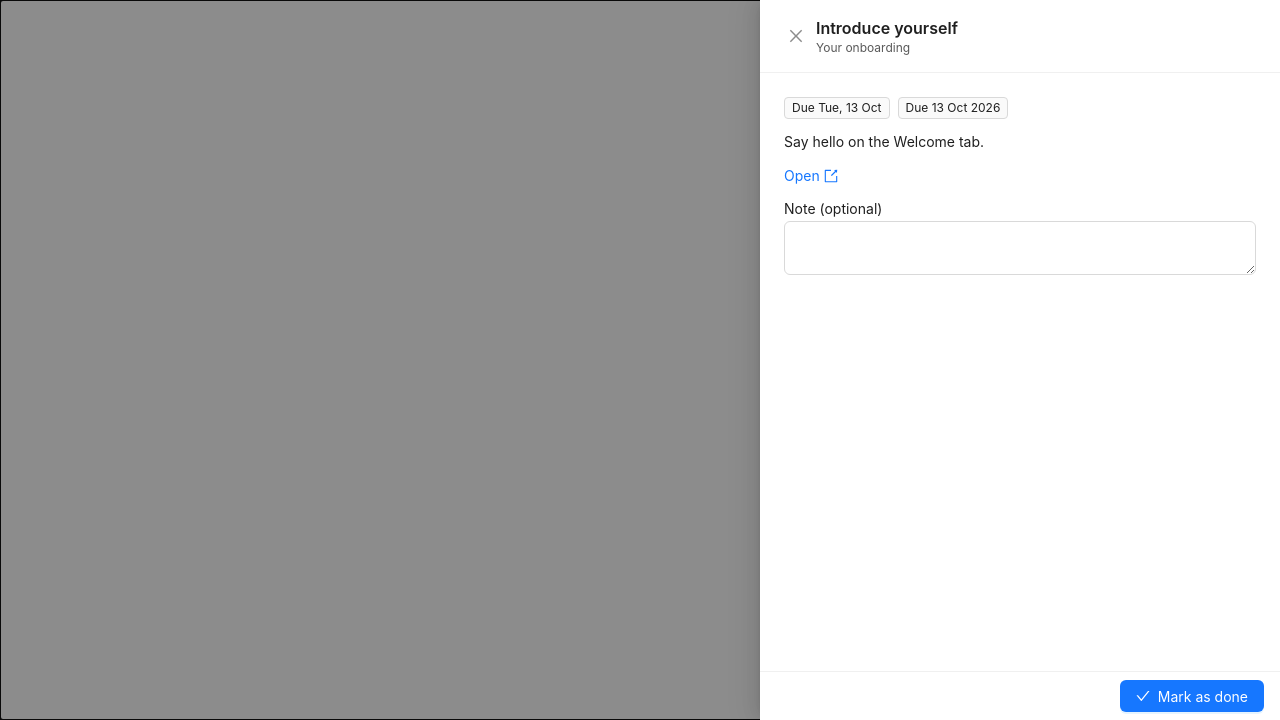
Test: LifecycleTaskDrawer › marks a plain task done with a note
The width and height of the screenshot is (1280, 720).
Expected: the text "Your onboarding" is shown, left=816, top=40, right=910, bottom=55
Expected: the text "Say hello on the Welcome tab." is shown, left=784, top=133, right=984, bottom=150
Click the text box labelled "Note (optional)": (1020,248) left=784, top=221, right=1256, bottom=275
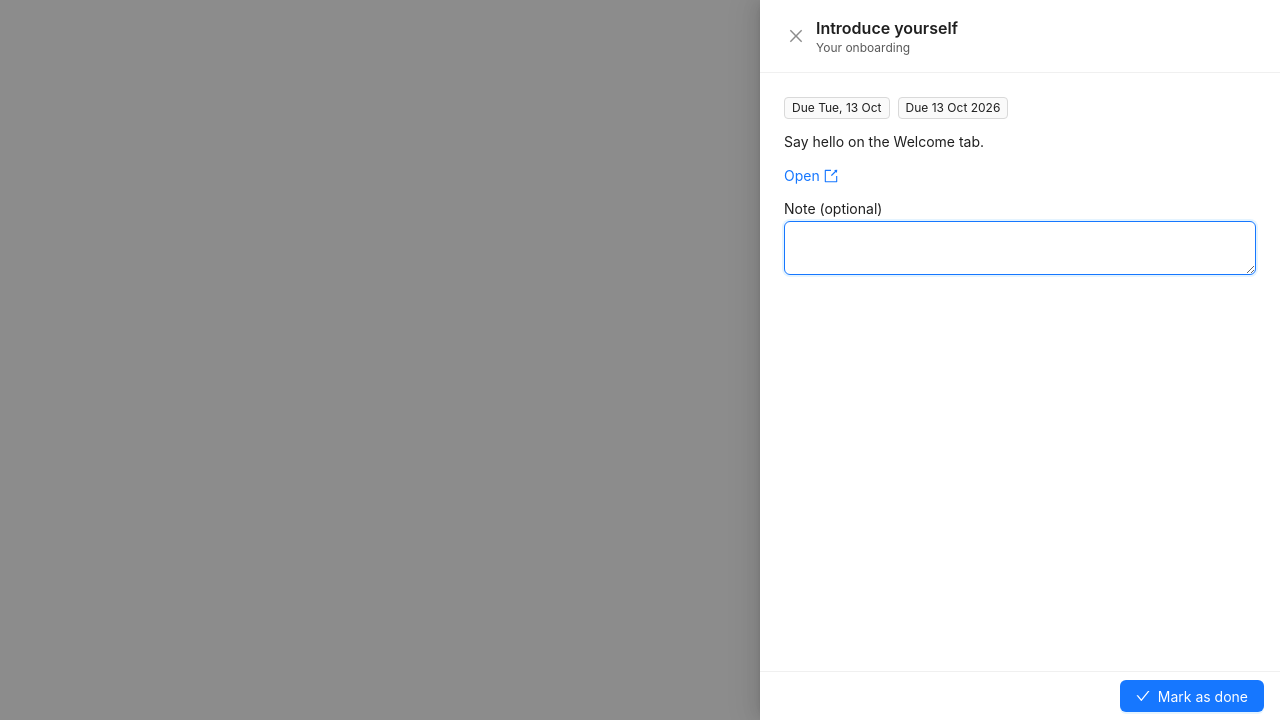
Type keys "Posted!"
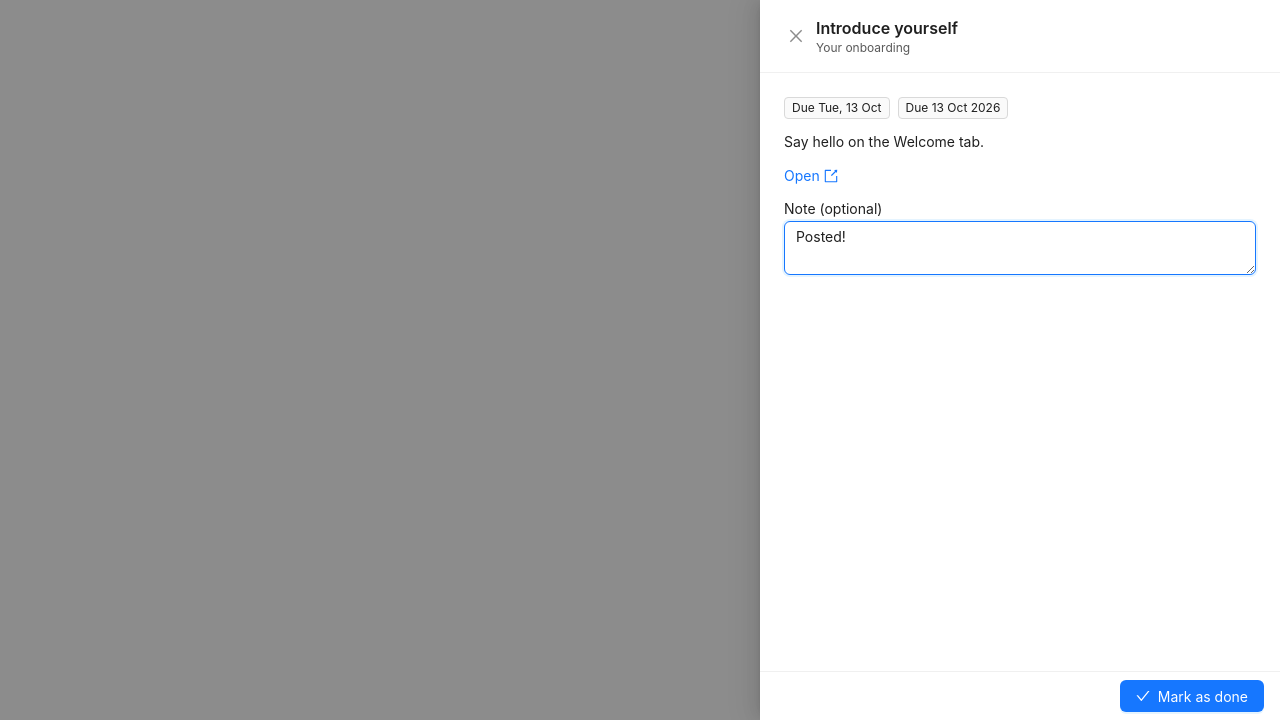
Click the button "Mark as done": (1192,696) left=1120, top=680, right=1264, bottom=712
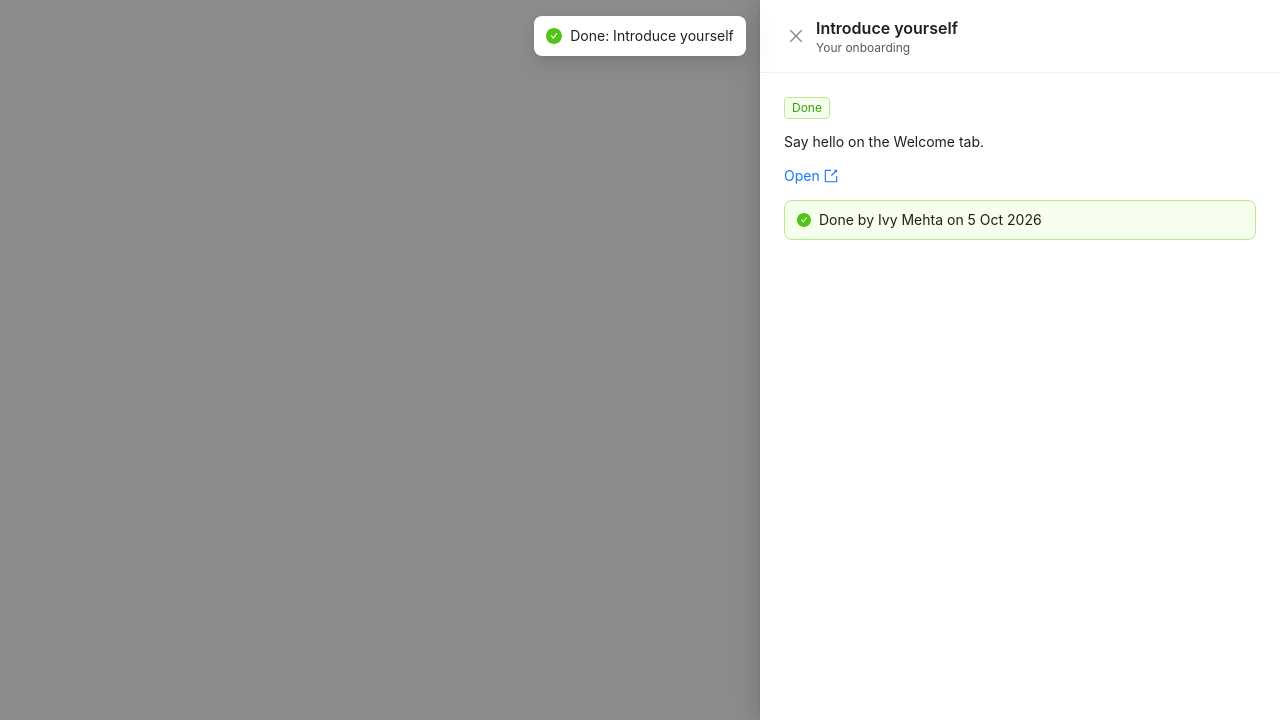
Expected: the text "Done: Introduce yourself" is shown, left=570, top=25, right=734, bottom=47
